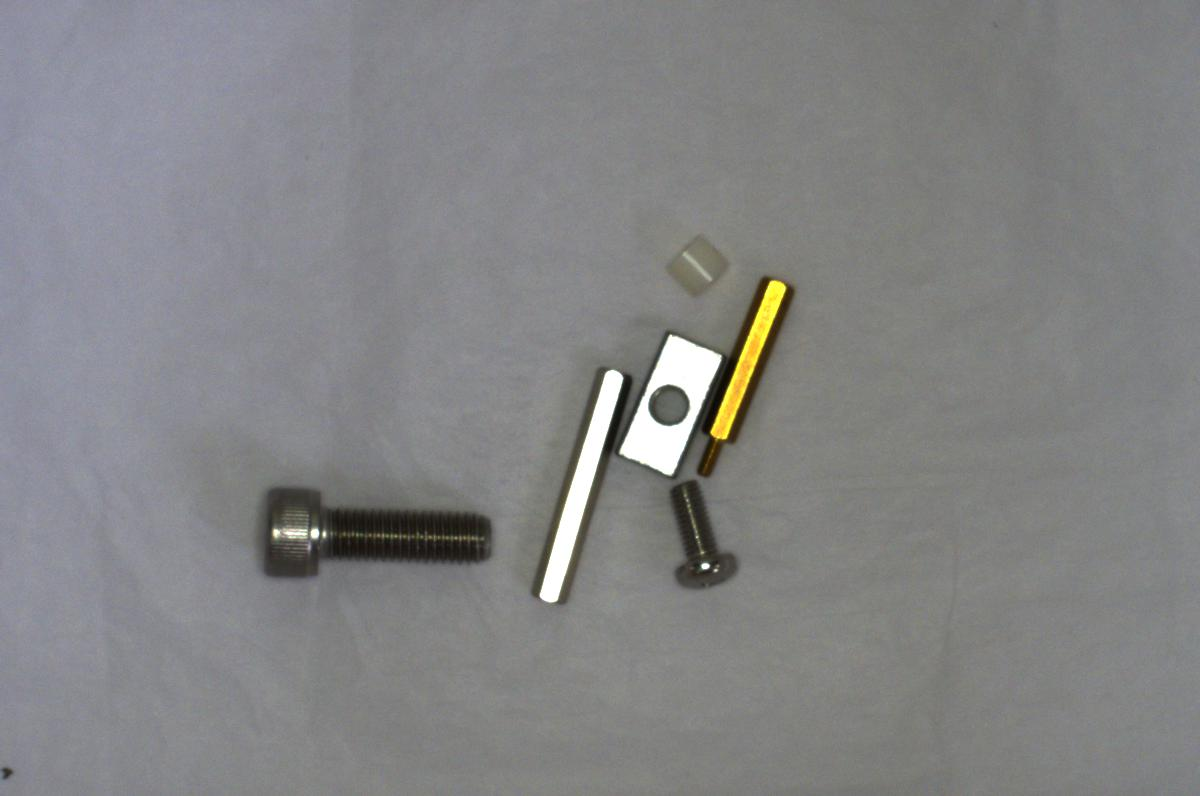Double hexagonal column: (526, 359, 622, 602)
Hexagon pillar: (693, 268, 798, 480)
Hexagon screw: (252, 478, 495, 582)
Plastic cushion pillar: (660, 230, 735, 298)
Rectangular nut: (615, 329, 726, 487)
Round head screw: (668, 475, 750, 602)
